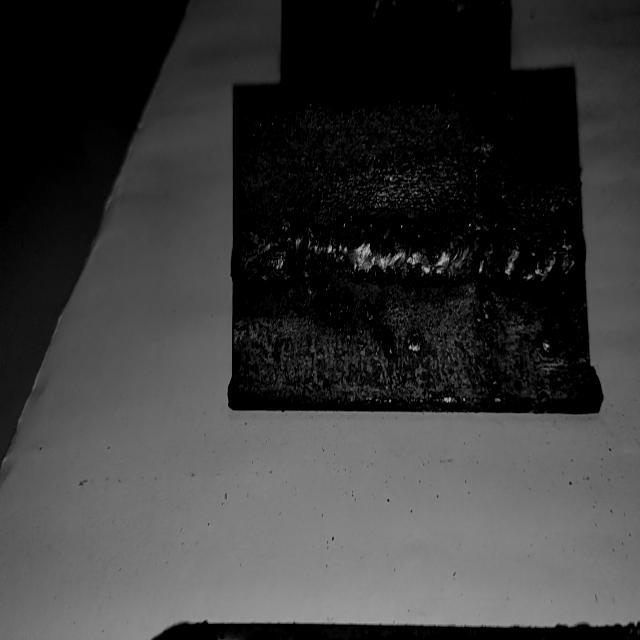Defect: (462, 218, 584, 298), (239, 217, 337, 296)
Welding Line: (238, 218, 586, 288)
Workpiece: (228, 72, 594, 415)
